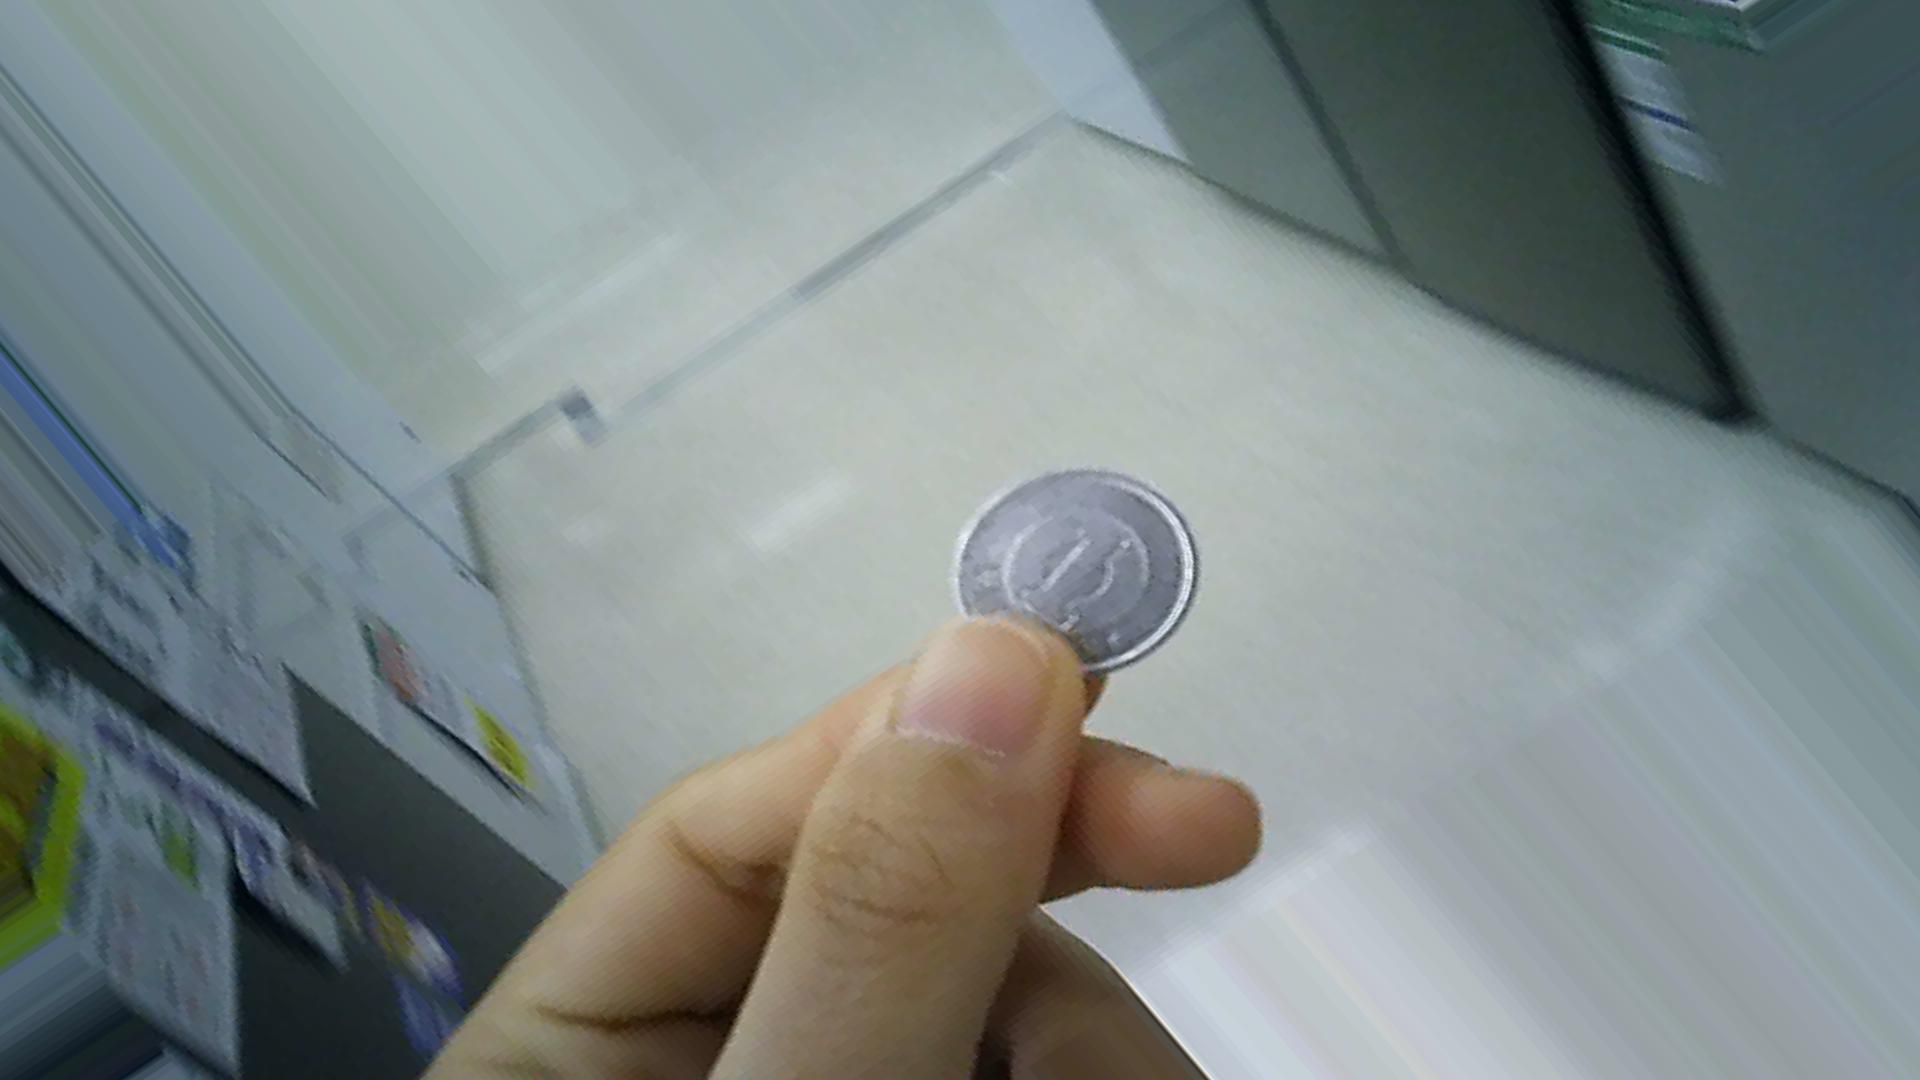1 Yen: (947, 468, 1215, 663)
